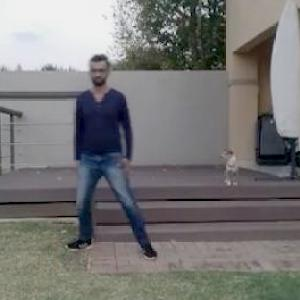follow: (71, 49, 134, 261)
